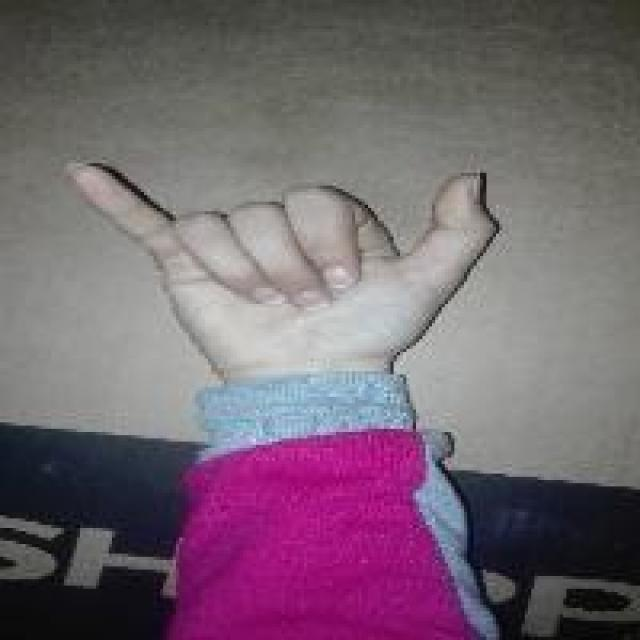Y: (56, 147, 510, 365)
